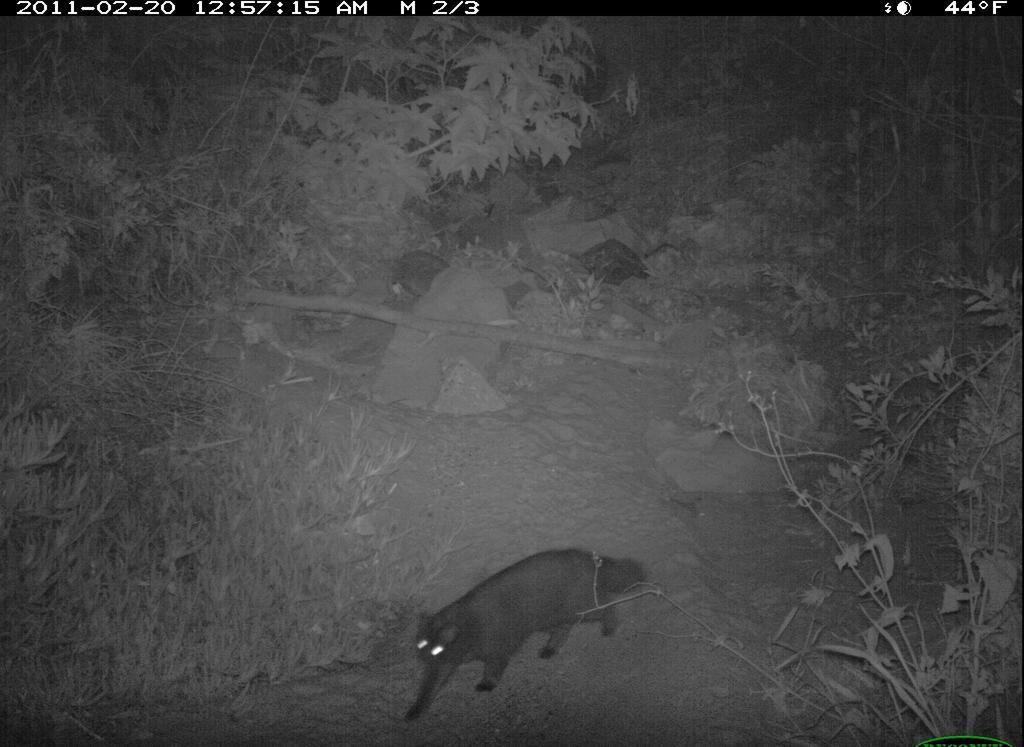cat: (399, 542, 655, 728)
